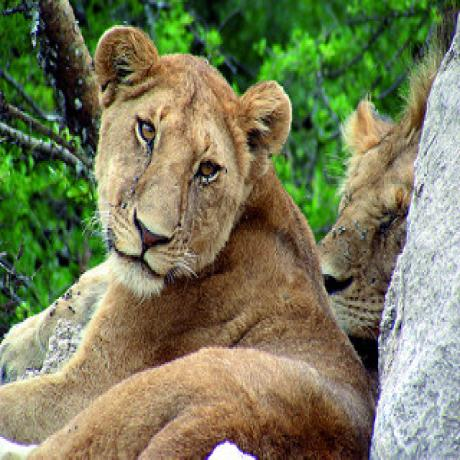Lion: (0, 26, 377, 460), (316, 55, 434, 366)
